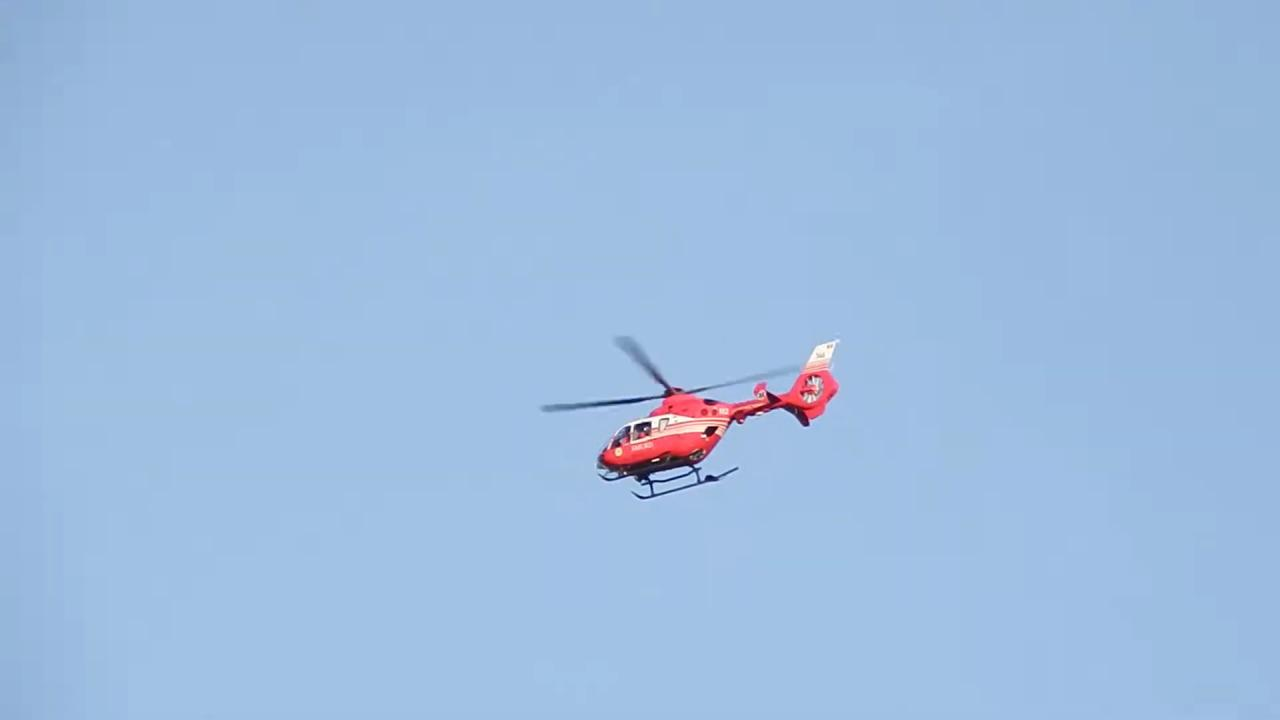Helicopter: (519, 309, 866, 521)
